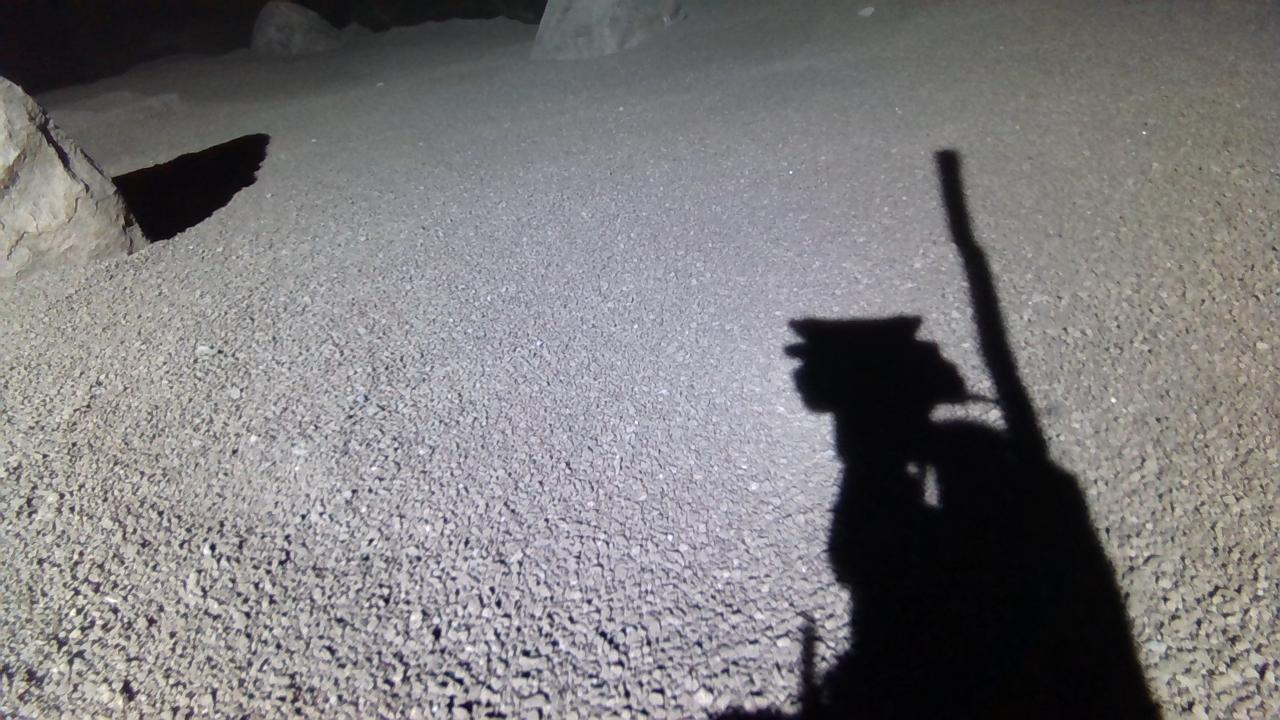rock: (0, 75, 147, 276), (530, 0, 681, 57), (250, 1, 342, 54)
